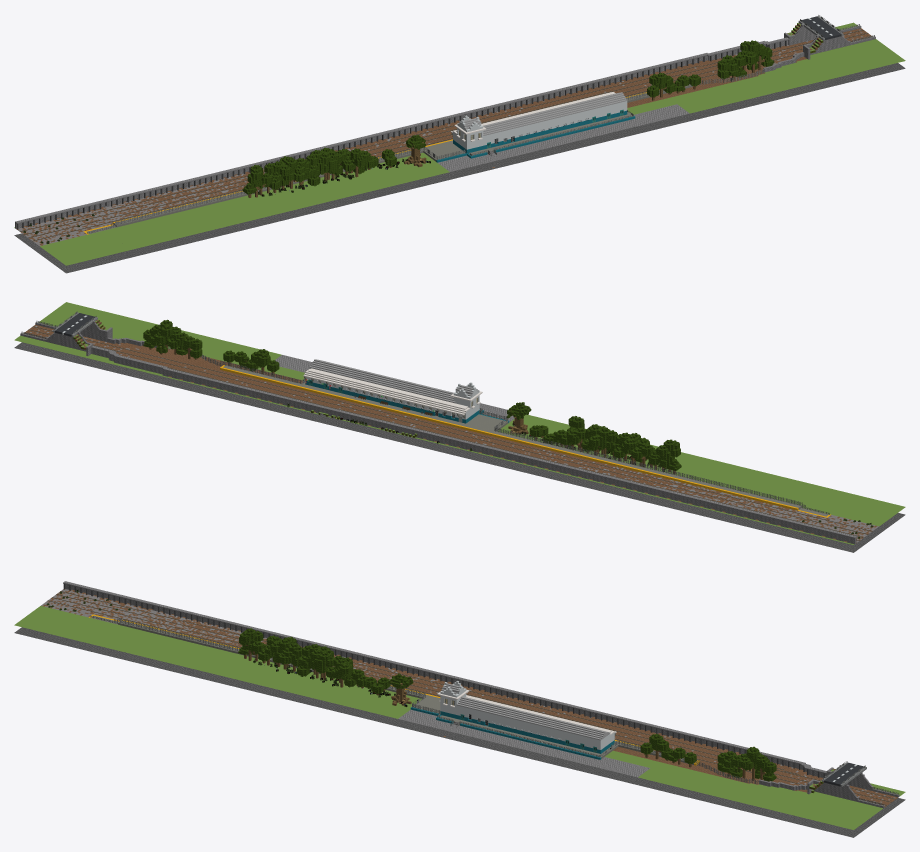
File: Aimores.fbx
3 renders of one model, top to bottom at view 1: azimuth 30°, elevation 25°; view 2: azimuth 150°, elevation 25°; view 3: azimuth 330°, elevation 25°, orthographic.
Parts seen in each view (by area): view 1: minecraft_block_yellow_concrete, minecraft_block_yellow_concrete.001, minecraft_block_yellow_concrete_proxy, dramaticdoors_block_macaw_tall_warped_nether_door_lower, dramaticdoors_block_macaw_tall_warped_nether_door_lower_prox, minecraft_block_andesite_proxy.004; view 2: minecraft_block_yellow_concrete, dramaticdoors_block_macaw_tall_warped_nether_door_lower, minecraft_block_yellow_concrete.001, dramaticdoors_block_macaw_tall_warped_nether_door_lower_prox, minecraft_block_yellow_concrete_proxy, minecraft_block_andesite_proxy.004; view 3: dramaticdoors_block_macaw_tall_warped_nether_door_lower_prox, dramaticdoors_block_macaw_tall_warped_nether_door_lower, minecraft_block_yellow_concrete.001, minecraft_block_yellow_concrete_proxy, minecraft_block_yellow_concrete, minecraft_block_andesite_proxy.004.
Boxes of the visible parts, x1,y1,x2,y2 form: minecraft_block_yellow_concrete: [159, 147, 357, 238]; minecraft_block_yellow_concrete.001: [602, 40, 800, 130]; minecraft_block_yellow_concrete_proxy: [14, 186, 209, 273]; dramaticdoors_block_macaw_tall_warped_nether_door_lower: [307, 114, 504, 202]; dramaticdoors_block_macaw_tall_warped_nether_door_lower_prox: [454, 78, 652, 166]; minecraft_block_andesite_proxy.004: [757, 15, 905, 93]; minecraft_block_yellow_concrete: [562, 424, 761, 517]; dramaticdoors_block_macaw_tall_warped_nether_door_lower: [414, 382, 592, 481]; minecraft_block_yellow_concrete.001: [119, 319, 312, 409]; dramaticdoors_block_macaw_tall_warped_nether_door_lower_prox: [267, 359, 452, 445]; minecraft_block_yellow_concrete_proxy: [710, 472, 905, 552]; minecraft_block_andesite_proxy.004: [14, 302, 157, 373]; dramaticdoors_block_macaw_tall_warped_nether_door_lower_prox: [453, 688, 651, 775]; dramaticdoors_block_macaw_tall_warped_nether_door_lower: [306, 652, 503, 739]; minecraft_block_yellow_concrete.001: [601, 724, 798, 811]; minecraft_block_yellow_concrete_proxy: [14, 581, 208, 667]; minecraft_block_yellow_concrete: [158, 616, 356, 703]; minecraft_block_andesite_proxy.004: [749, 761, 905, 837].
Size of the model in its own units: 45500 by 2000 by 4910.
59 materials, 53 textured.
